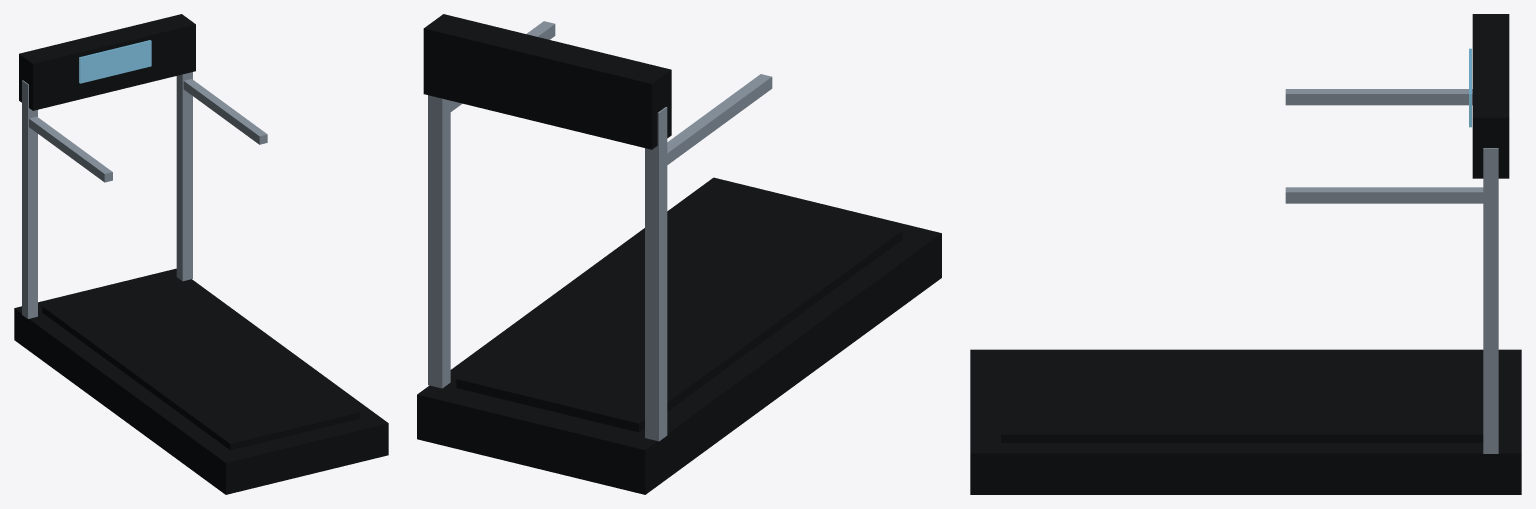
The model's file is treadmill.glb.
3 renders of one model, left to right at view 1: azimuth 30°, elevation 25°; view 2: azimuth 150°, elevation 25°; view 3: azimuth 270°, elevation 25°, orthographic. The views are drawn at different scales.
Parts seen in each view (by area): view 1: Belt, Base, Console, Upright, _MeshInstance3D_61, Display, _MeshInstance3D_62, Rail; view 2: Belt, Base, Console, Upright, _MeshInstance3D_61, Rail; view 3: Belt, Base, Console, _MeshInstance3D_61, _MeshInstance3D_62, Rail.
Part boxes in pixels (x1,y1,x2,y2): Belt: (42, 274, 360, 450); Base: (14, 268, 388, 494); Console: (19, 14, 195, 110); Upright: (22, 80, 37, 318); _MeshInstance3D_61: (176, 72, 192, 281); Display: (79, 40, 151, 83); _MeshInstance3D_62: (183, 79, 267, 144); Rail: (29, 116, 112, 182); Belt: (456, 186, 902, 432); Base: (417, 177, 941, 494); Console: (423, 14, 671, 149); Upright: (645, 107, 667, 441); _MeshInstance3D_61: (428, 95, 450, 388); Rail: (667, 74, 772, 164); Belt: (1001, 352, 1483, 442); Base: (970, 349, 1521, 494); Console: (1472, 14, 1509, 178); _MeshInstance3D_61: (1483, 148, 1498, 453); _MeshInstance3D_62: (1285, 187, 1483, 203); Rail: (1285, 89, 1472, 105).
Size of the model in its own units: 0.81 by 1.36 by 1.8.
